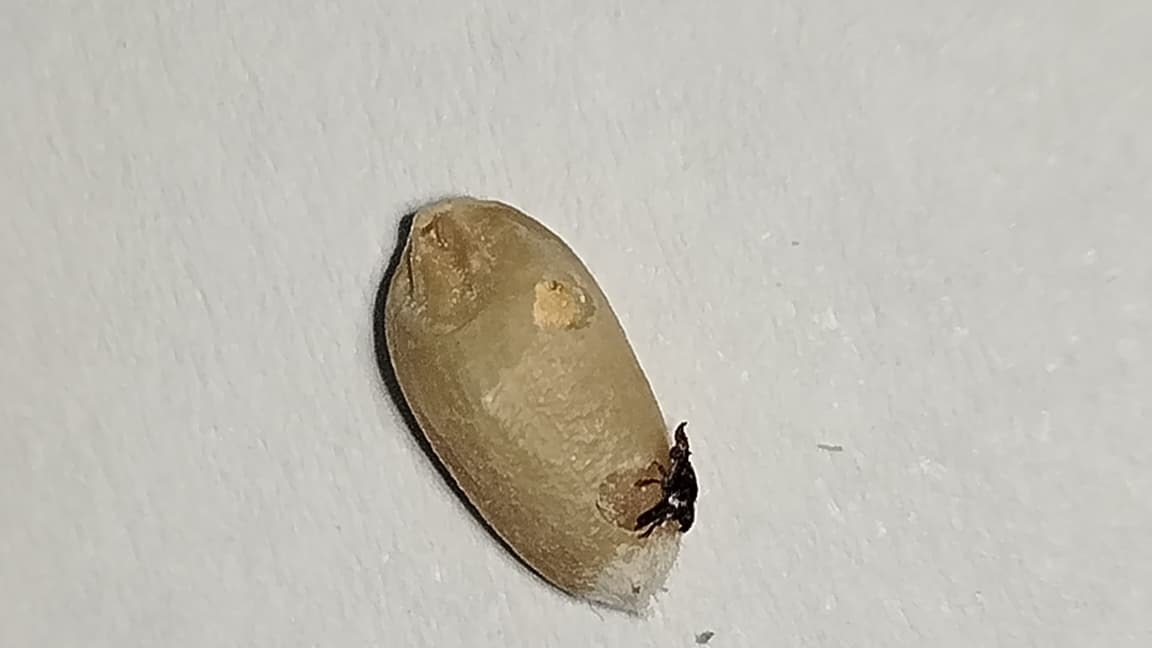damage: (385, 195, 698, 614)
insectdamage: (595, 422, 739, 541), (513, 268, 633, 354)
